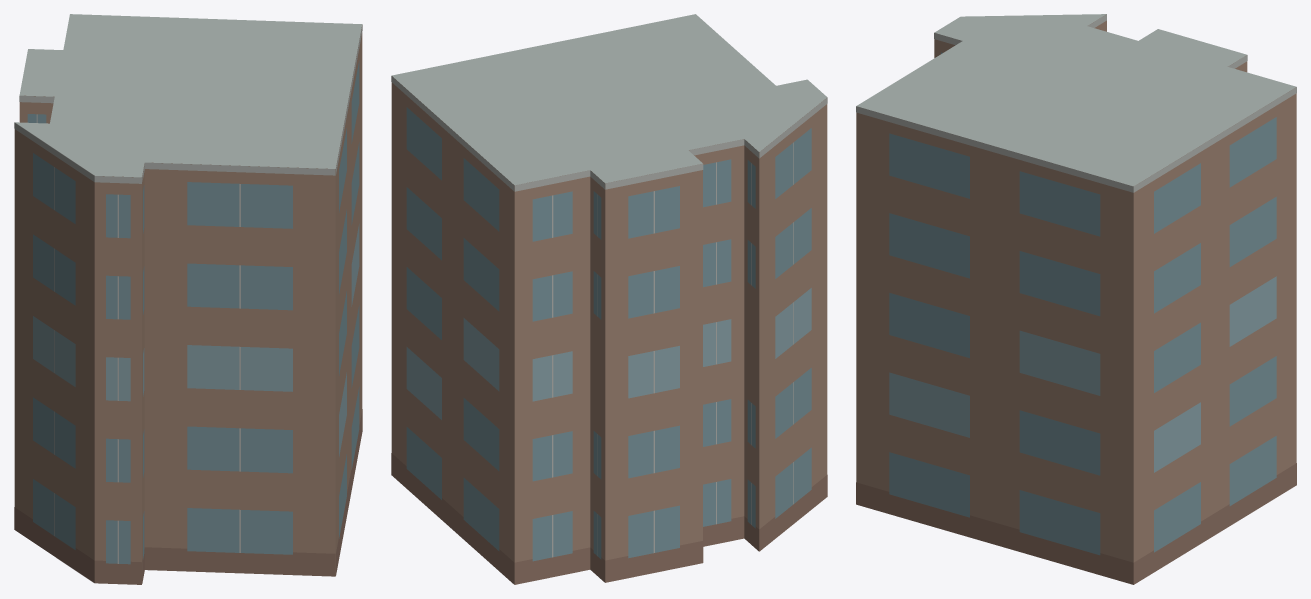
File: survey-upis-32999861.glb
3 views of the same model, side by side, from view 1: azimuth 30°, elevation 25°; view 2: azimuth 150°, elevation 25°; view 3: azimuth 270°, elevation 25° (orthographic). The views are drawn at different scales.
Parts seen in each view (by area): view 1: survey-upis-32999861.tmp; view 2: survey-upis-32999861.tmp; view 3: survey-upis-32999861.tmp.
Boxes of the visible parts, x1,y1,x2,y2 form: survey-upis-32999861.tmp: [14, 14, 362, 584]; survey-upis-32999861.tmp: [391, 14, 827, 584]; survey-upis-32999861.tmp: [856, 14, 1296, 584].
Bounding box in the file's own units: 14.17 × 15.25 × 15.29.
